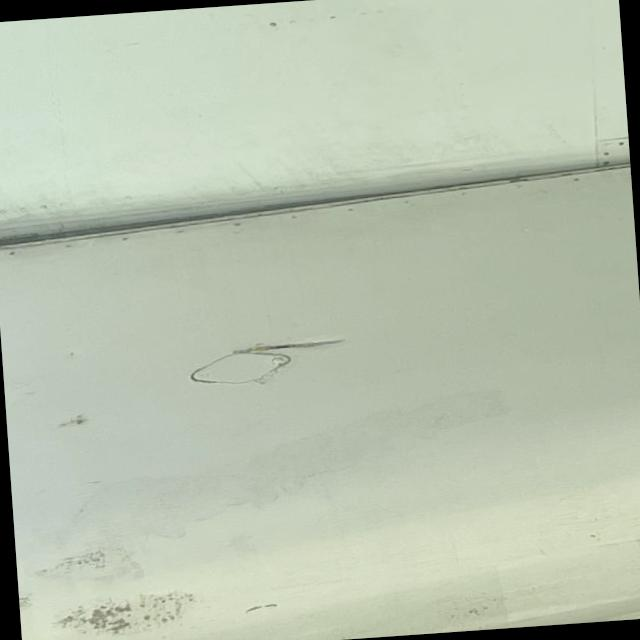crack: (235, 330, 353, 361)
